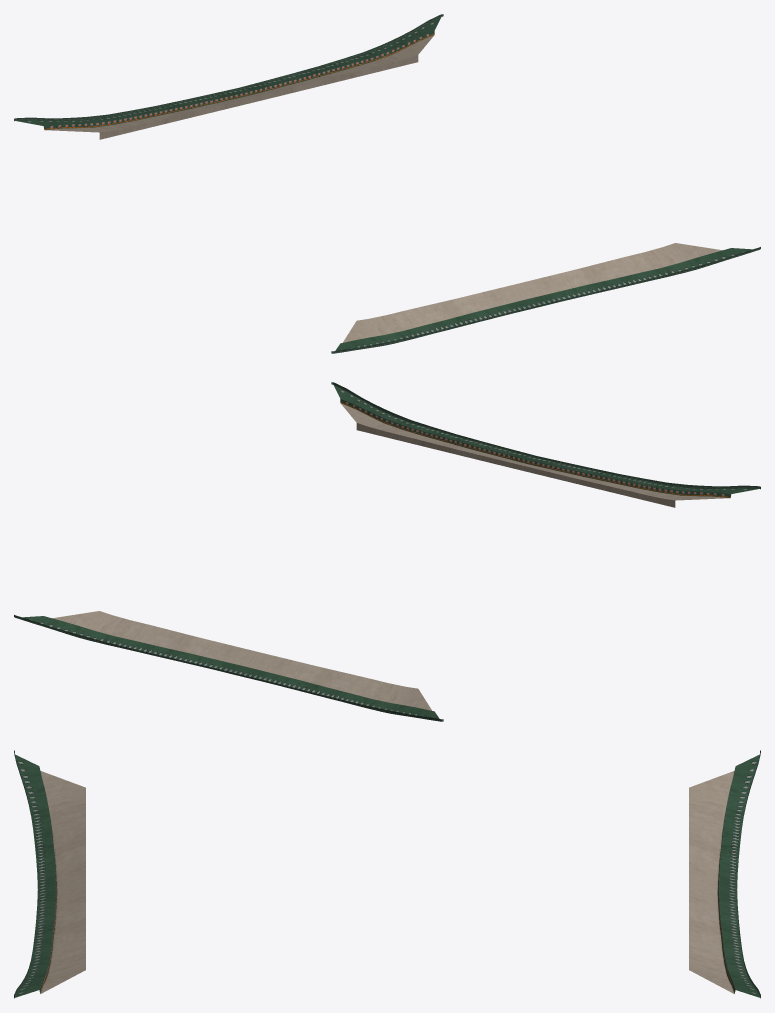
The model's file is SM_GJJ_1F_Roof04A.fbx.
The picture shows the model from 3 angles, top to bottom: view 1: azimuth 30°, elevation 25°; view 2: azimuth 150°, elevation 25°; view 3: azimuth 270°, elevation 25°; orthographic projection. The views are drawn at different scales.
Parts seen in each view (by area): view 1: SM_GJJ_1F_Roof04A; view 2: SM_GJJ_1F_Roof04A; view 3: SM_GJJ_1F_Roof04A.
Part boxes in pixels (box(x1,y1,x2,y2)): SM_GJJ_1F_Roof04A: box(14, 14, 760, 353); SM_GJJ_1F_Roof04A: box(14, 382, 760, 721); SM_GJJ_1F_Roof04A: box(14, 750, 760, 998).
Size of the model in its own units: 3094 by 3972 by 114.
1 material, 1 textured.
